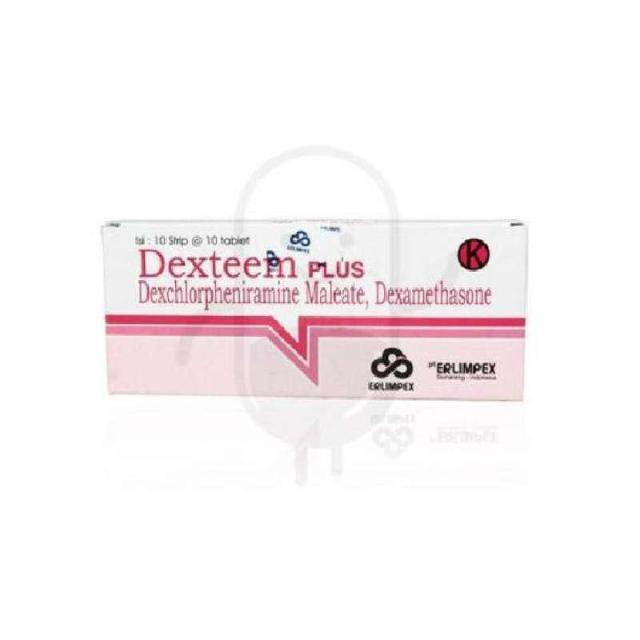drug-name: (138, 250, 296, 280)
